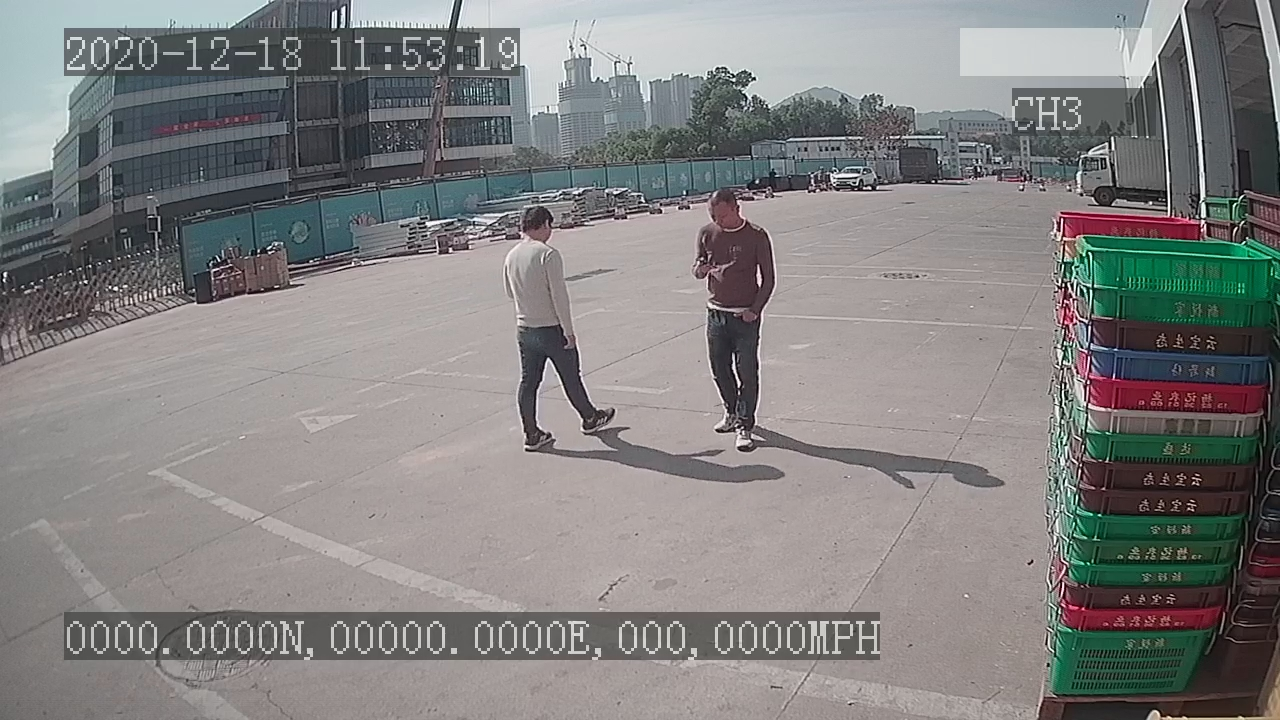person: (497, 201, 629, 460), (683, 183, 786, 463)
